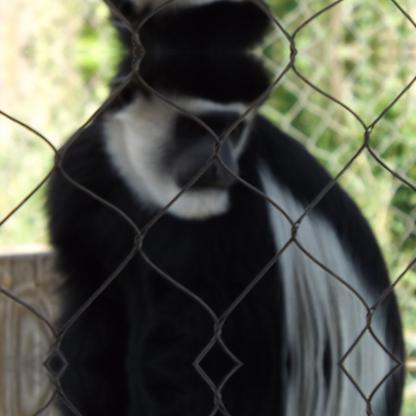Monkey: (44, 52, 404, 362)
